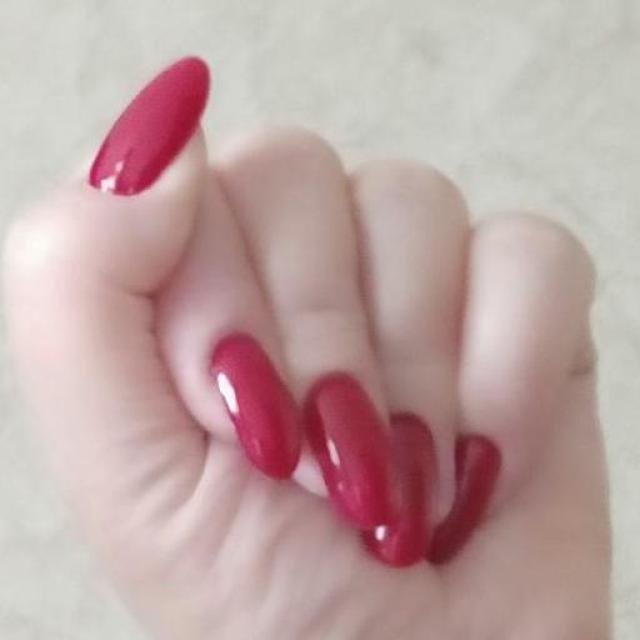hand: (1, 54, 619, 638)
